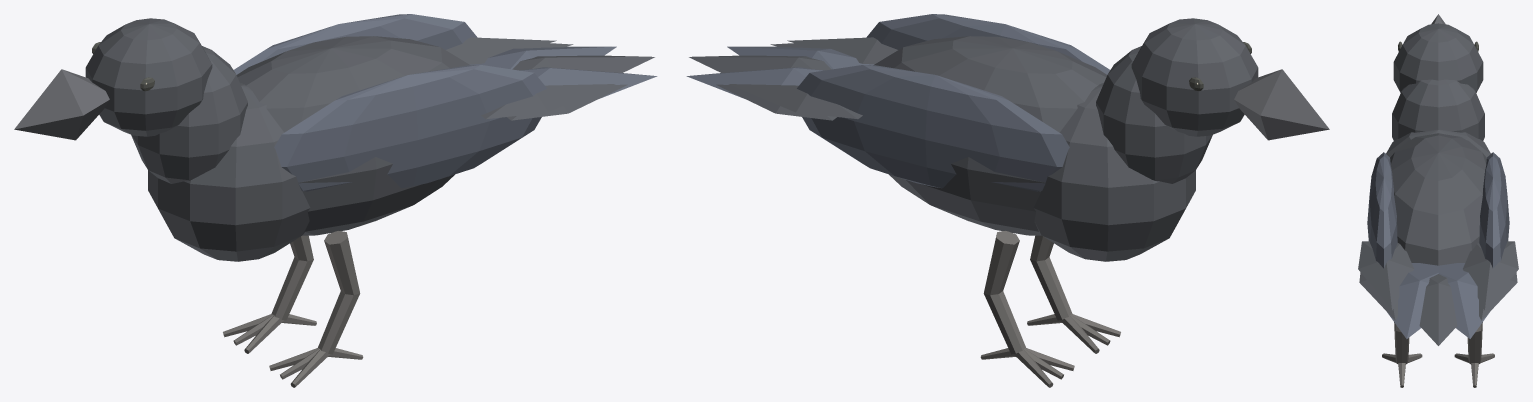
The model's file is crow.glb.
The picture shows the model from 3 angles, left to right: view 1: azimuth 30°, elevation 25°; view 2: azimuth 150°, elevation 25°; view 3: azimuth 270°, elevation 25°; orthographic projection. The views are drawn at different scales.
Parts seen in each view (by area): view 1: body_coat, Folded_Wing_L, Head, Neck, Folded_Wing_R, Beak, tail_sheen, wingL_coat, Leg_L, Tail_Feather_1, wingR_coat, Leg_R (+2 smaller); view 2: body_coat, Folded_Wing_R, Head, Neck, Folded_Wing_L, Beak, tail_sheen, wingR_coat, Leg_R, Tail_Feather_1, wingL_coat, Leg_L (+2 smaller); view 3: body_coat, Head, Neck, tail_sheen, Folded_Wing_L, Folded_Wing_R, wingL_coat, wingR_coat, Tail_Feather_1, Leg_L, Leg_R, footL_legs (+1 smaller).
Part boxes in pixels (box(x1,y1,x2,y2)): body_coat: box(148, 36, 470, 261); Folded_Wing_L: box(274, 65, 546, 191); Head: box(85, 18, 212, 136); Neck: box(131, 46, 247, 183); Folded_Wing_R: box(233, 14, 477, 74); Beak: box(14, 69, 109, 140); tail_sheen: box(469, 46, 657, 98); wingL_coat: box(481, 84, 627, 120); Leg_L: box(318, 231, 360, 354); Tail_Feather_1: box(512, 55, 654, 72); wingR_coat: box(446, 37, 573, 64); Leg_R: box(271, 235, 313, 320); body_coat: box(873, 36, 1195, 261); Folded_Wing_R: box(797, 65, 1069, 191); Head: box(1131, 18, 1258, 136); Neck: box(1096, 46, 1212, 183); Folded_Wing_L: box(866, 14, 1110, 74); Beak: box(1234, 69, 1329, 140); tail_sheen: box(686, 46, 874, 98); wingR_coat: box(716, 84, 862, 120); Leg_R: box(983, 231, 1025, 354); Tail_Feather_1: box(689, 55, 831, 72); wingL_coat: box(770, 37, 897, 64); Leg_L: box(1030, 235, 1072, 320); body_coat: box(1386, 129, 1490, 265); Head: box(1393, 23, 1483, 92); Neck: box(1392, 79, 1484, 140); tail_sheen: box(1387, 263, 1489, 338); Folded_Wing_L: box(1367, 152, 1397, 268); Folded_Wing_R: box(1479, 152, 1509, 268); wingL_coat: box(1358, 241, 1413, 320); wingR_coat: box(1463, 241, 1518, 320); Tail_Feather_1: box(1419, 274, 1457, 345); Leg_L: box(1394, 322, 1409, 364); Leg_R: box(1467, 322, 1482, 364); footL_legs: box(1382, 353, 1422, 387).
Bounding box in the file's own units: 0.352 × 0.1914 × 0.0972.
